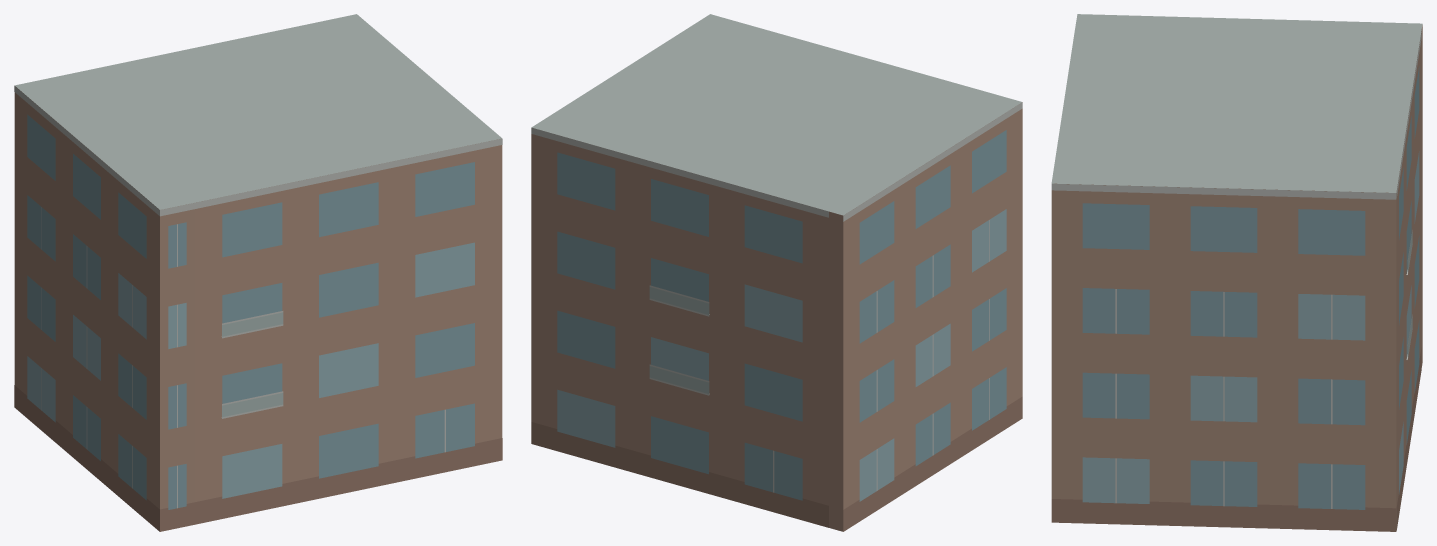
The model's file is survey-upis-32780347.glb.
3 renders of one model, left to right at view 1: azimuth 30°, elevation 25°; view 2: azimuth 150°, elevation 25°; view 3: azimuth 270°, elevation 25°, orthographic. The views are drawn at different scales.
Visible parts, largest first — view 1: survey-upis-32780347.tmp; view 2: survey-upis-32780347.tmp; view 3: survey-upis-32780347.tmp.
Boxes of the visible parts, <box> form: survey-upis-32780347.tmp: <box>14,14,502,531</box>; survey-upis-32780347.tmp: <box>531,14,1022,531</box>; survey-upis-32780347.tmp: <box>1051,14,1422,531</box>.
Size of the model in its own units: 13.83 by 12.2 by 12.12.
